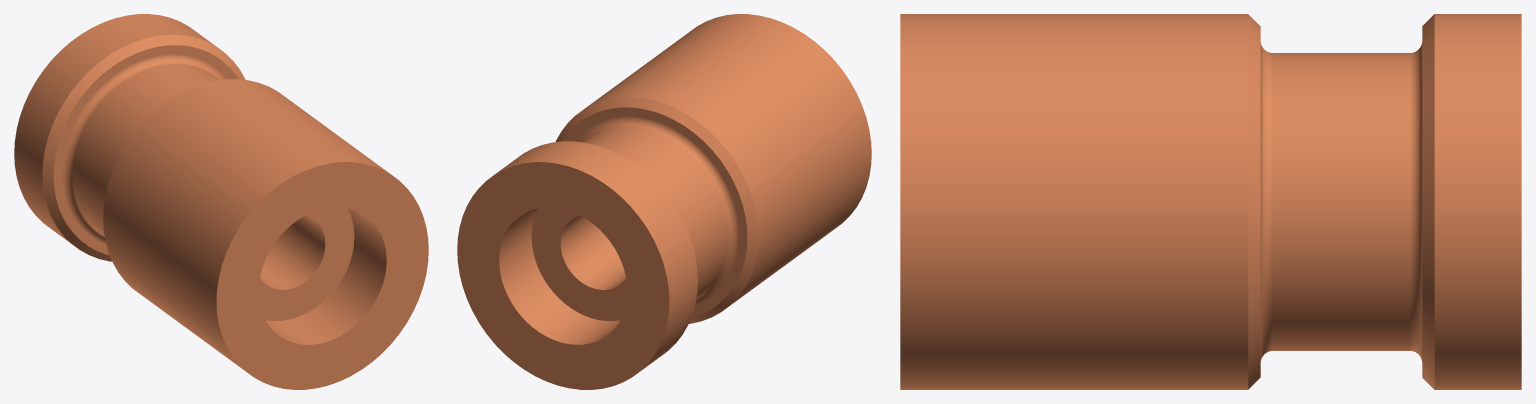
3 views of the same model, side by side, from view 1: azimuth 30°, elevation 25°; view 2: azimuth 150°, elevation 25°; view 3: azimuth 270°, elevation 25° (orthographic). The views are drawn at different scales.
Visible parts, largest first — view 1: mesh2422, mesh2423, mesh2413, mesh2418, mesh2424, mesh2425, mesh2415, mesh2417, mesh2426, mesh2416; view 2: mesh2422, mesh2412, mesh2413, mesh2418, mesh2411, mesh2414, mesh2421, mesh2419, mesh2426, mesh2420; view 3: mesh2422, mesh2418, mesh2413, mesh2415, mesh2421, mesh2417, mesh2419.
Part boxes in pixels (left/top/right/bottom): mesh2422: left=103, top=79, right=389, bottom=371; mesh2423: left=216, top=162, right=428, bottom=389; mesh2413: left=14, top=14, right=215, bottom=243; mesh2418: left=72, top=64, right=218, bottom=236; mesh2424: left=266, top=208, right=386, bottom=344; mesh2425: left=258, top=207, right=354, bottom=321; mesh2415: left=42, top=34, right=245, bottom=261; mesh2417: left=61, top=54, right=226, bottom=244; mesh2426: left=260, top=215, right=325, bottom=289; mesh2416: left=53, top=45, right=238, bottom=255; mesh2422: left=585, top=14, right=871, bottom=305; mesh2412: left=457, top=162, right=669, bottom=389; mesh2413: left=496, top=141, right=697, bottom=371; mesh2418: left=582, top=126, right=728, bottom=298; mesh2411: left=499, top=208, right=619, bottom=344; mesh2414: left=531, top=207, right=627, bottom=321; mesh2421: left=555, top=97, right=758, bottom=323; mesh2419: left=574, top=116, right=739, bottom=306; mesh2426: left=560, top=215, right=625, bottom=289; mesh2420: left=562, top=107, right=747, bottom=317; mesh2422: left=900, top=14, right=1248, bottom=389; mesh2418: left=1273, top=53, right=1409, bottom=350; mesh2413: left=1434, top=14, right=1521, bottom=389; mesh2415: left=1422, top=14, right=1434, bottom=389; mesh2421: left=1248, top=14, right=1260, bottom=389; mesh2417: left=1409, top=42, right=1422, bottom=361; mesh2419: left=1260, top=42, right=1272, bottom=361.
Size of the model in its own units: 0.0152 by 0.0151 by 0.025.
